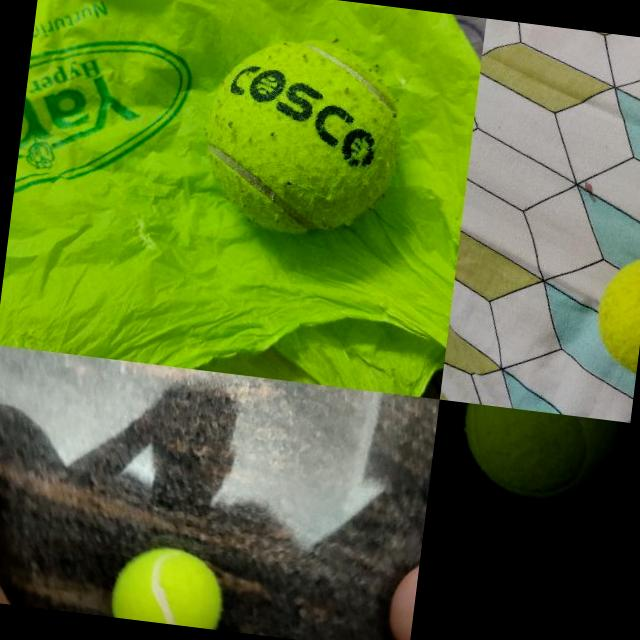Tennis Ball: (190, 27, 412, 247), (456, 402, 618, 508), (108, 540, 228, 629), (590, 248, 640, 377)
